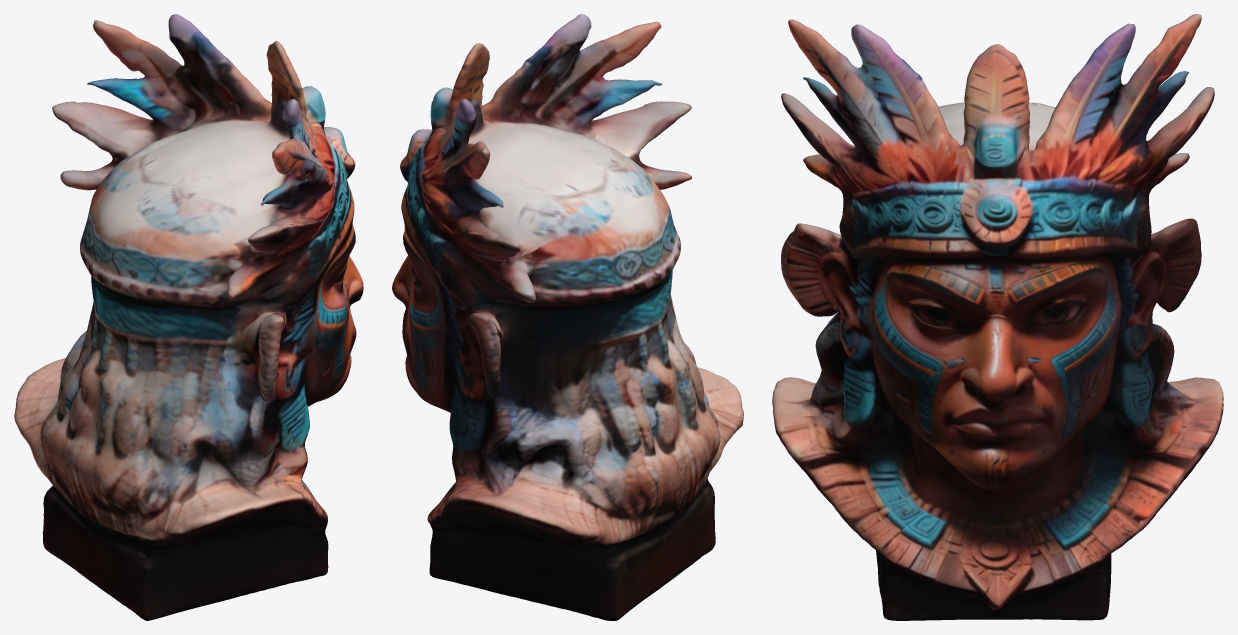
The picture shows the model from 3 angles, left to right: view 1: azimuth 30°, elevation 25°; view 2: azimuth 150°, elevation 25°; view 3: azimuth 270°, elevation 25°; orthographic projection. The views are drawn at different scales.
Parts seen in each view (by area): view 1: geometry_0; view 2: geometry_0; view 3: geometry_0.
Boxes of the visible parts, bbox=[...] form: geometry_0: bbox=[14, 14, 363, 620]; geometry_0: bbox=[392, 14, 743, 620]; geometry_0: bbox=[772, 14, 1223, 620].
Bounding box in the file's own units: 0.529 × 0.8685 × 0.6154.
1 material, 1 textured.
